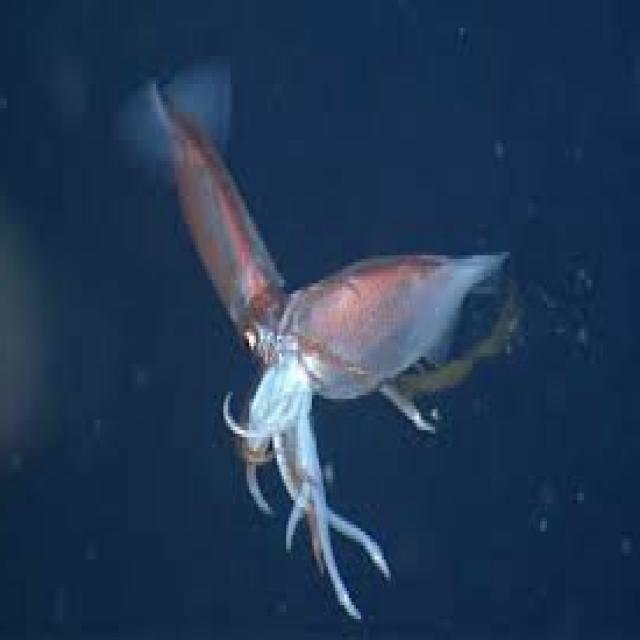squid: (226, 252, 507, 616), (170, 108, 289, 360)
